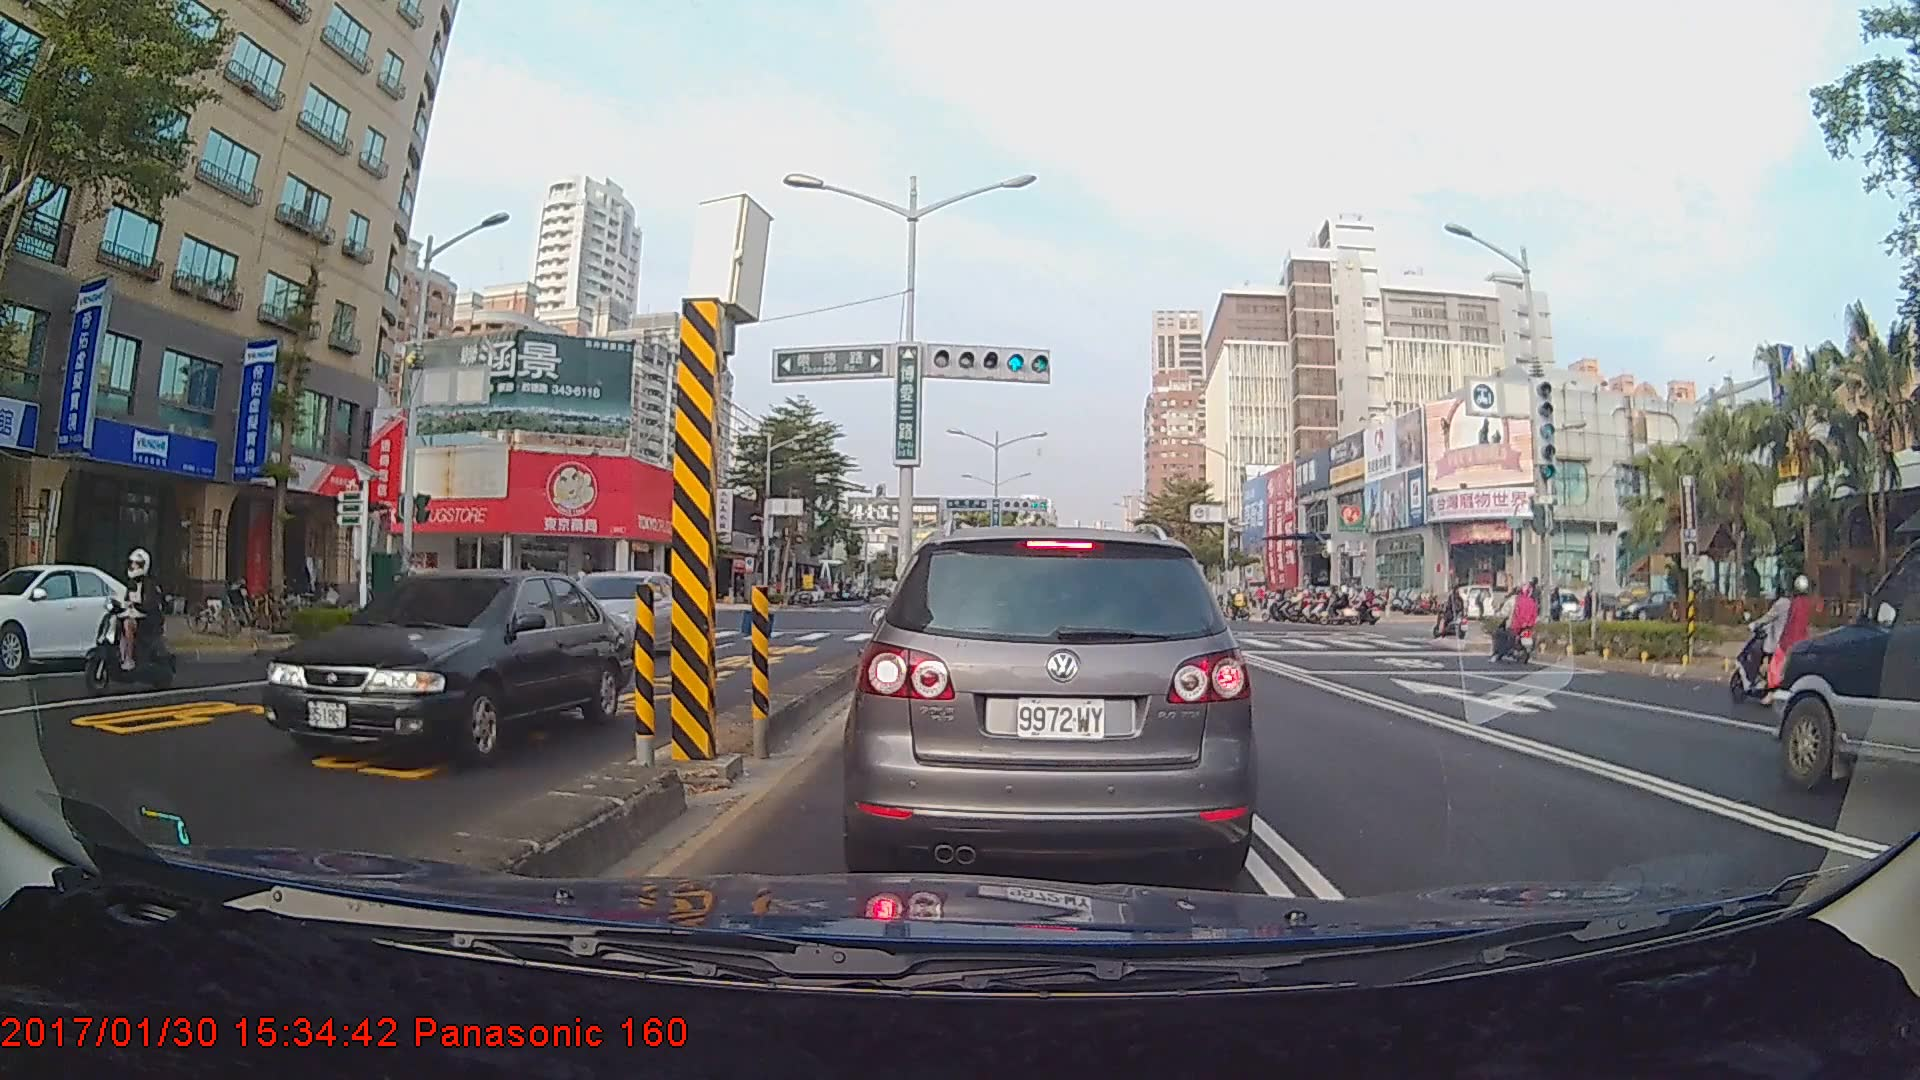rider: (82, 547, 174, 703), (1731, 574, 1824, 718), (1485, 582, 1548, 668), (1436, 582, 1473, 646)
vehicle: (850, 521, 1250, 885), (260, 567, 635, 767), (1771, 523, 1920, 799), (0, 561, 157, 671)
